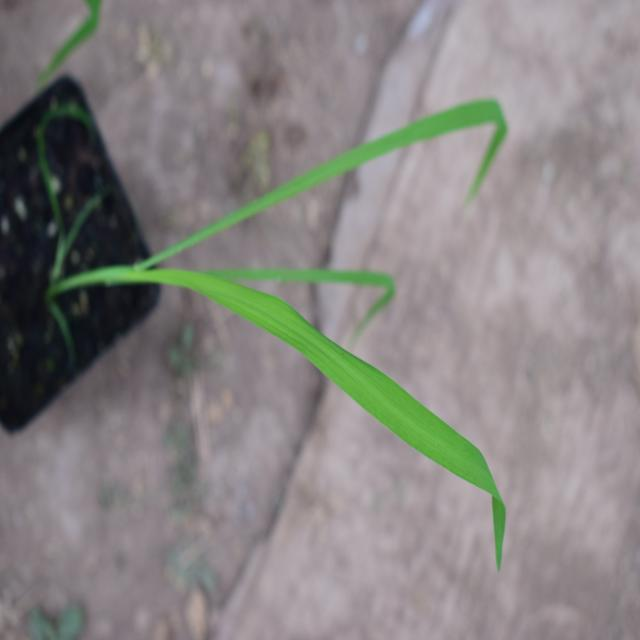barnyard_grass: (80, 73, 560, 575)
